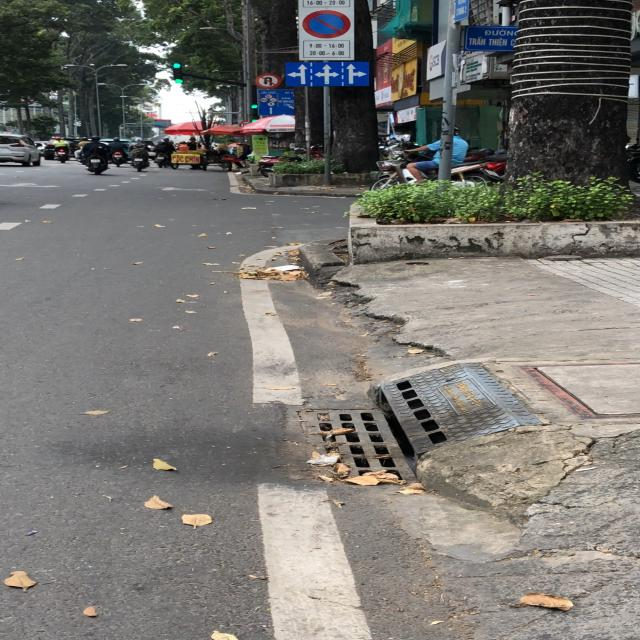Bien bao cam do xe: (297, 8, 355, 40)
Bien bao cam quay dau xe: (255, 72, 285, 90)
